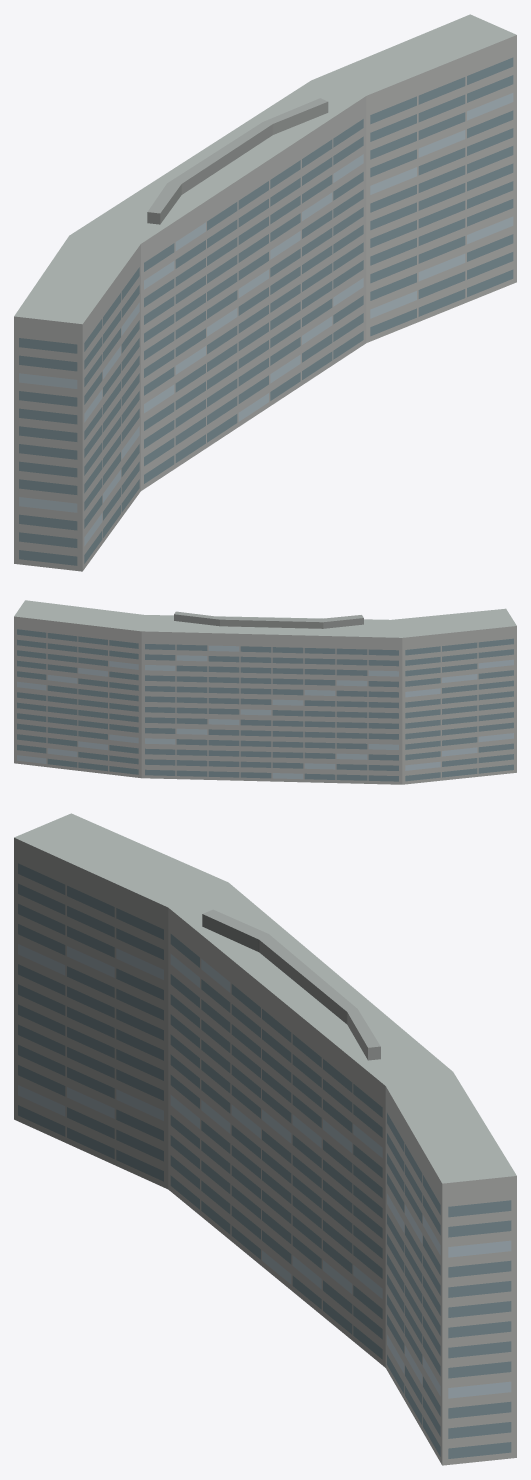
File: fallback-daechi-eunma-23.glb
The picture shows the model from 3 angles, top to bottom: view 1: azimuth 30°, elevation 25°; view 2: azimuth 150°, elevation 25°; view 3: azimuth 270°, elevation 25°; orthographic projection. The views are drawn at different scales.
Parts seen in each view (by area): view 1: fallback-daechi-eunma-23; view 2: fallback-daechi-eunma-23; view 3: fallback-daechi-eunma-23.
Part boxes in pixels (x1,y1,x2,y2): fallback-daechi-eunma-23: (14,14,516,571); fallback-daechi-eunma-23: (14,600,516,784); fallback-daechi-eunma-23: (14,813,516,1465).
Size of the model in its own units: 120 by 44.62 by 69.03.
